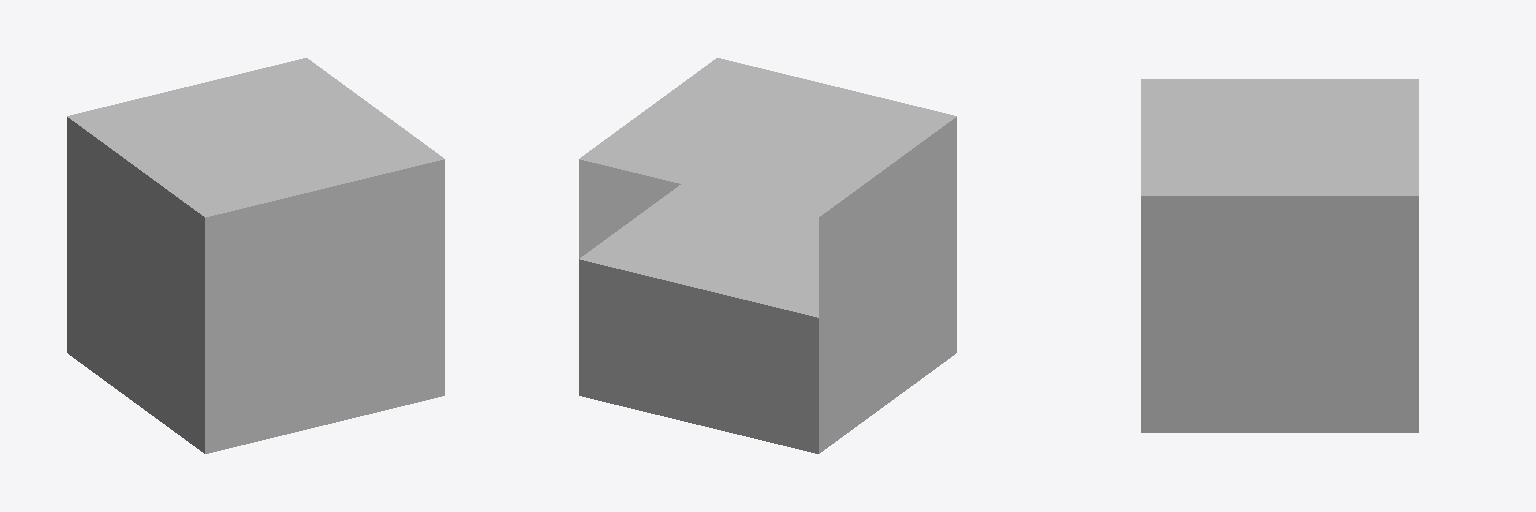
The model's file is WATER_THREE.obj.
3 views of the same model, side by side, from view 1: azimuth 30°, elevation 25°; view 2: azimuth 150°, elevation 25°; view 3: azimuth 270°, elevation 25° (orthographic).
Visible parts, largest first — view 1: Water_3_Cube.002; view 2: Water_3_Cube.002; view 3: Water_3_Cube.002.
Boxes of the visible parts, x1,y1,x2,y2 form: Water_3_Cube.002: [67, 58, 444, 453]; Water_3_Cube.002: [579, 58, 956, 453]; Water_3_Cube.002: [1141, 79, 1418, 432].
Bounding box in the file's own units: 4 × 3.77 × 4.